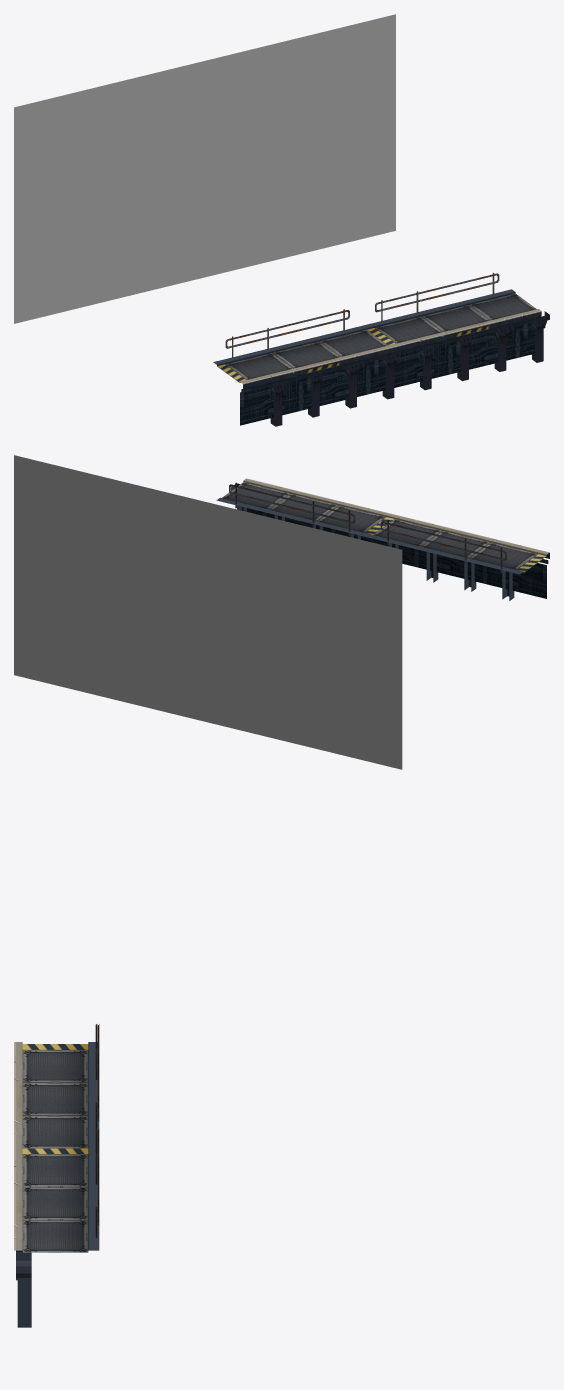
File: zhantai.fbx
The picture shows the model from 3 angles, top to bottom: view 1: azimuth 30°, elevation 25°; view 2: azimuth 150°, elevation 25°; view 3: azimuth 270°, elevation 25°; orthographic projection. The views are drawn at different scales.
Parts seen in each view (by area): view 1: zhantai_background, zhantai; view 2: zhantai_background, zhantai; view 3: zhantai.
Boxes of the visible parts, x1,y1,x2,y2 form: zhantai_background: (14,14,395,323); zhantai: (213,272,549,426); zhantai_background: (14,455,402,769); zhantai: (216,478,549,600); zhantai: (14,1024,99,1327).
Bounding box in the file's own units: 33.49 × 18.14 × 28.41.
3 materials, 2 textured.
